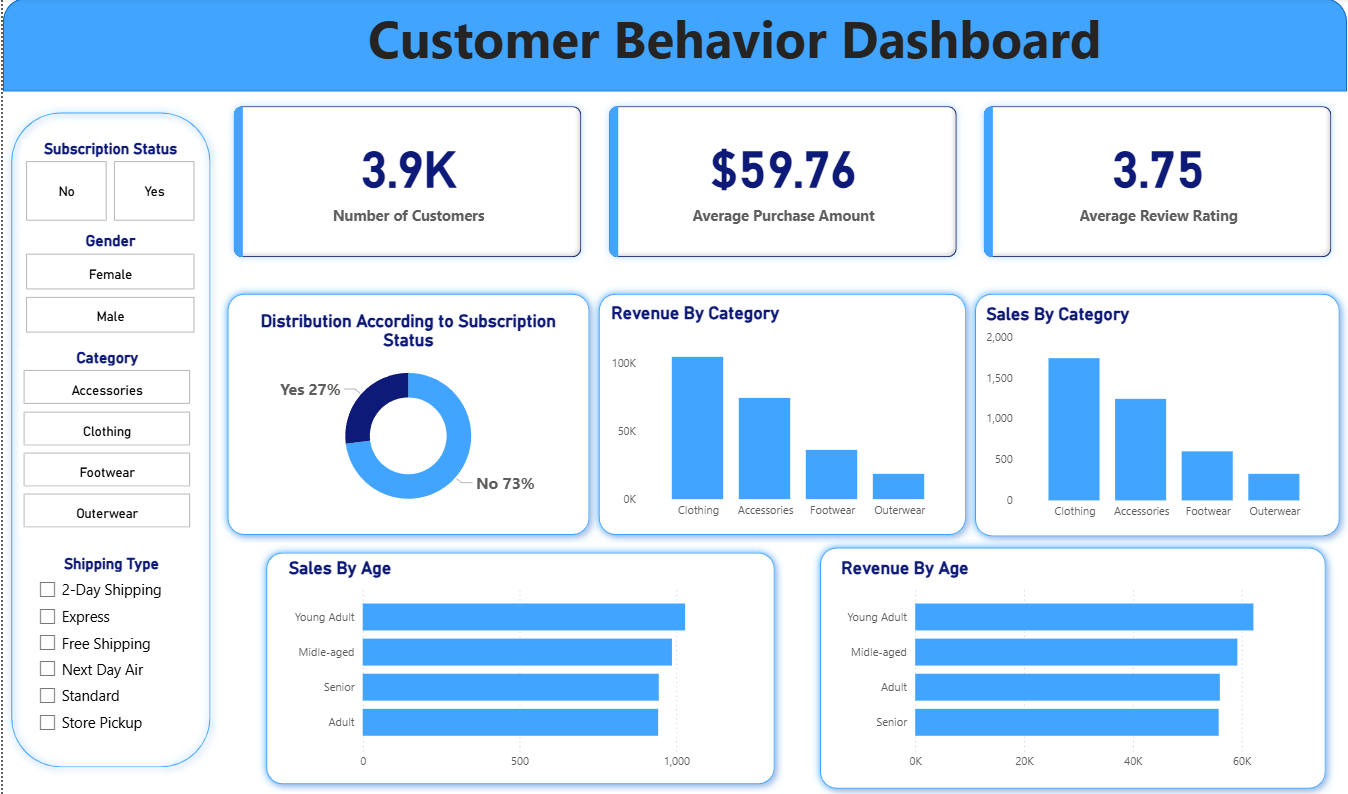

The dashboard page shown, as its layout file describes it:
{"tool":"powerbi","page":{"name":"Page 1","canvas":[1470,873],"ordinal":0},"visuals":[{"type":"cardVisual","fields":{"Data":["customer_behavior customer.Number of Customers","customer_behavior customer.Average Purchase Amount","customer_behavior customer.Average Review Rating"]},"box":[235.7,102.3,1233.6,197.2],"z":0},{"type":"shape","box":[0,0,1469.3,102.3],"z":1000},{"type":"textbox","box":[0,0,1599.8,102.3],"z":2000},{"type":"shape","box":[235.7,314.3,413.7,281.7],"z":3000},{"type":"donutChart","title":"Distribution According to Subscription Status","fields":{"Category":["customer_behavior customer.subscription_status"],"Y":["Count(customer_behavior customer.customer_id)"]},"box":[253.5,341,378.1,231.3],"z":4000},{"type":"shape","box":[642,314.3,419.6,281.7],"z":5000},{"type":"shape","box":[1054.2,314.3,416.6,283.2],"z":6000},{"type":"clusteredColumnChart","title":"Revenue By Category","fields":{"Category":["customer_behavior customer.category"],"Y":["Sum(customer_behavior customer.purchase_amount)"]},"box":[659.8,333.6,384,244.6],"z":7000},{"type":"clusteredColumnChart","title":"Sales By Category","fields":{"Category":["customer_behavior customer.category"],"Y":["Count(customer_behavior customer.customer_id)"]},"box":[1070.5,335.1,384,244.6],"z":8000},{"type":"shape","box":[0,115.6,235.7,733.9],"z":9000},{"type":"advancedSlicerVisual","title":"Subscription Status","fields":{"Values":["customer_behavior customer.subscription_status"]},"box":[20.8,154.2,194.2,94.9],"z":10000},{"type":"advancedSlicerVisual","title":"Category","fields":{"Values":["customer_behavior customer.category"]},"box":[17.8,382.5,192.7,203.1],"z":11000},{"type":"advancedSlicerVisual","title":"Gender","fields":{"Values":["customer_behavior customer.gender"]},"box":[20.8,255,194.2,117.1],"z":12000},{"type":"slicer","title":"Shipping Type","fields":{"Values":["customer_behavior customer.shipping_type"]},"box":[26.7,607.9,182.4,210.5],"z":13000},{"type":"shape","box":[278.7,597.5,573.8,271.3],"z":14000},{"type":"shape","box":[883.7,591.6,570.8,281.7],"z":16000},{"type":"clusteredBarChart","title":"Revenue By Age","fields":{"Y":["Sum(customer_behavior customer.purchase_amount)"],"Category":["customer_behavior customer.age_group"]},"box":[911.9,612.3,517.5,240.2],"z":17500},{"type":"clusteredBarChart","title":"Sales By Age","fields":{"Category":["customer_behavior customer.age_group"],"Y":["Count(customer_behavior customer.customer_id)"]},"box":[306.9,612.3,517.5,240.2],"z":17501}]}

Visuals, with their boxes in screenshot pixels (x1, y1, x2, y2), scaled from the page's 1470x873 canvas onto the 1348x794 screenshot:
cardVisual - customer_behavior customer.Number of Customers x customer_behavior customer.Average Purchase Amount: <bbox>216, 93, 1347, 272</bbox>
shape: <bbox>0, 0, 1347, 93</bbox>
textbox: <bbox>0, 0, 1347, 93</bbox>
shape: <bbox>216, 286, 596, 542</bbox>
"Distribution According to Subscription Status" donutChart: <bbox>232, 310, 579, 521</bbox>
shape: <bbox>589, 286, 973, 542</bbox>
shape: <bbox>967, 286, 1347, 543</bbox>
"Revenue By Category" clusteredColumnChart: <bbox>605, 303, 957, 526</bbox>
"Sales By Category" clusteredColumnChart: <bbox>982, 305, 1334, 527</bbox>
shape: <bbox>0, 105, 216, 773</bbox>
"Subscription Status" advancedSlicerVisual: <bbox>19, 140, 197, 227</bbox>
"Category" advancedSlicerVisual: <bbox>16, 348, 193, 533</bbox>
"Gender" advancedSlicerVisual: <bbox>19, 232, 197, 338</bbox>
"Shipping Type" slicer: <bbox>24, 553, 192, 744</bbox>
shape: <bbox>256, 543, 782, 790</bbox>
shape: <bbox>810, 538, 1334, 793</bbox>
"Revenue By Age" clusteredBarChart: <bbox>836, 557, 1311, 775</bbox>
"Sales By Age" clusteredBarChart: <bbox>281, 557, 756, 775</bbox>
